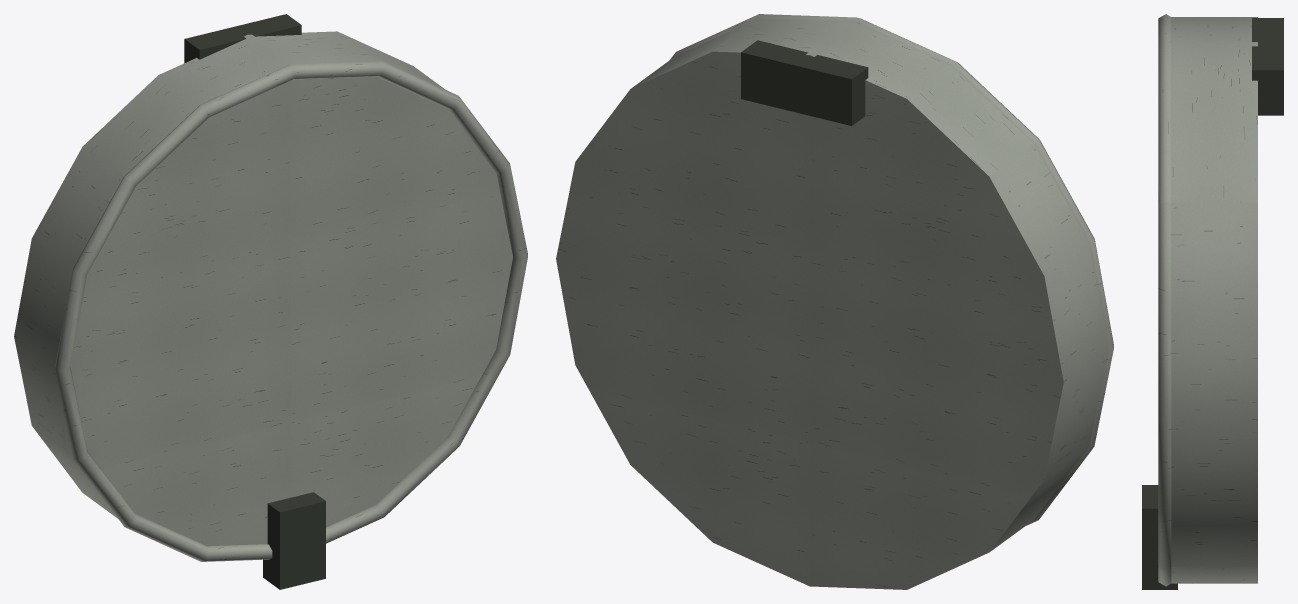
Rendered from SM_FieldKit_LampHood_LOD1.fbx.
3 views of the same model, side by side, from view 1: azimuth 30°, elevation 25°; view 2: azimuth 150°, elevation 25°; view 3: azimuth 270°, elevation 25° (orthographic). The views are drawn at different scales.
Parts seen in each view (by area): view 1: SM_FieldKit_LampHood_LOD1; view 2: SM_FieldKit_LampHood_LOD1; view 3: SM_FieldKit_LampHood_LOD1.
Boxes of the visible parts, box(x1,y1,x2,y2) form: SM_FieldKit_LampHood_LOD1: box(14, 14, 527, 589); SM_FieldKit_LampHood_LOD1: box(556, 14, 1113, 589); SM_FieldKit_LampHood_LOD1: box(1142, 14, 1283, 589).
Size of the model in its own units: 0.287 by 0.071 by 0.297.
